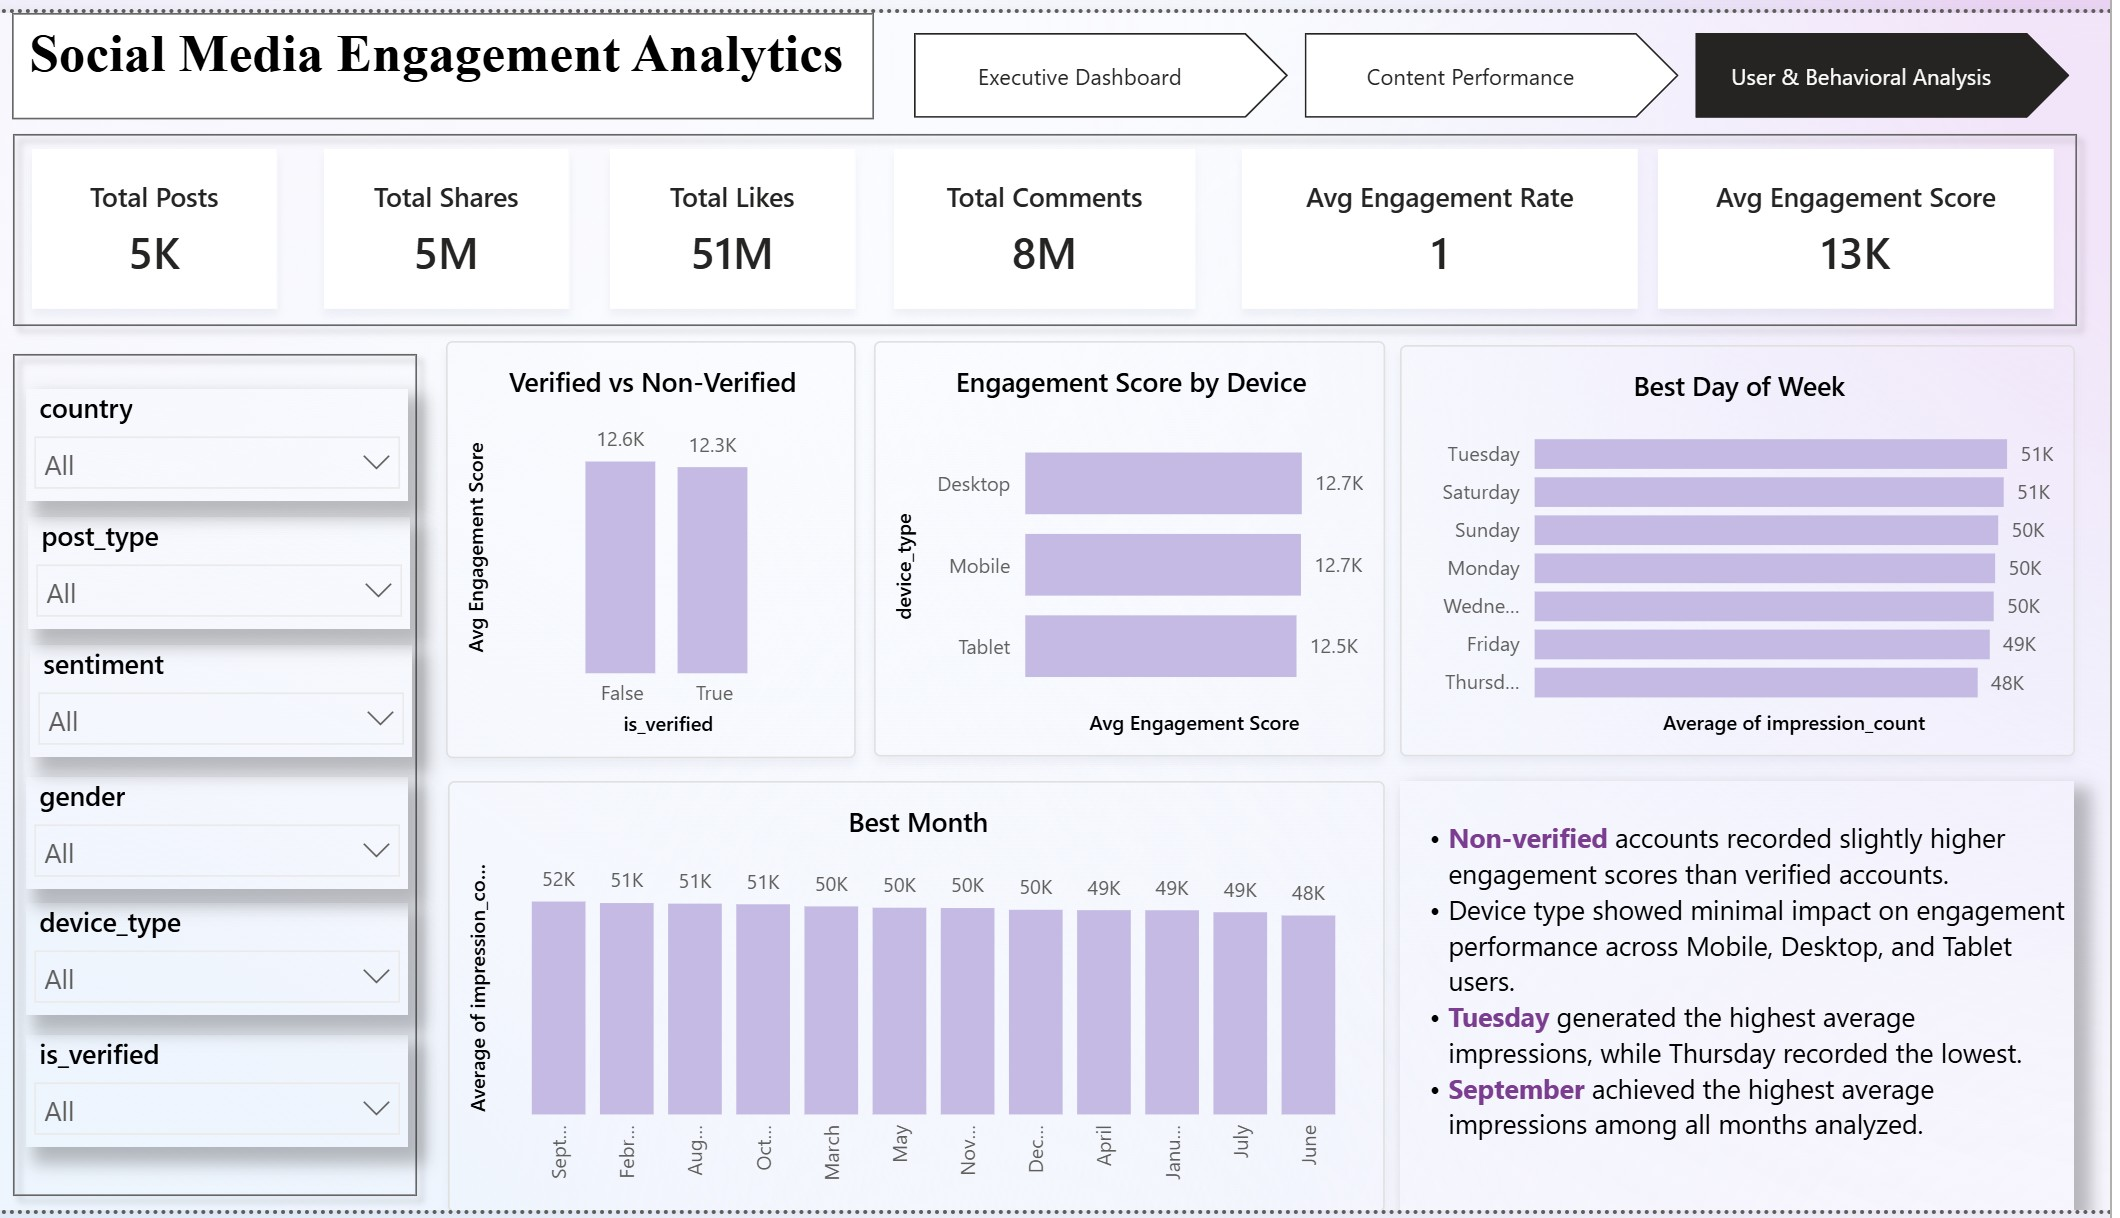

Layout of this report page (visuals, bound fields, positions):
{"tool":"powerbi","page":{"name":"User & Behavioral Analysis","canvas":[1280,720],"ordinal":2},"visuals":[{"type":"textbox","box":[18,0,518.5,63.8],"z":0},{"type":"shape","box":[9.6,63.8,1259.5,133.5],"z":1000},{"type":"cardVisual","fields":{"Data":["DAX_Measures.Total Posts"]},"box":[30.1,81.8,148,96.2],"z":2000},{"type":"cardVisual","fields":{"Data":["DAX_Measures.Avg Engagement Rate"]},"box":[757.9,81.8,238.2,96.2],"z":3000},{"type":"cardVisual","fields":{"Data":["DAX_Measures.Total Shares"]},"box":[205.7,81.8,148,96.2],"z":4000},{"type":"cardVisual","fields":{"Data":["DAX_Measures.Total Likes"]},"box":[377.7,81.8,148,96.2],"z":5000},{"type":"cardVisual","fields":{"Data":["DAX_Measures.Total Comments"]},"box":[548.6,81.8,181.7,96.2],"z":6000},{"type":"cardVisual","fields":{"Data":["DAX_Measures.Avg Engagement Score"]},"box":[1008.1,81.8,238.2,96.2],"z":7000},{"type":"columnChart","title":"Best Month","fields":{"Category":["dataset.month"],"Y":["Avg(dataset.impression_count)"]},"box":[280.3,462,638.8,258.6],"z":10000},{"type":"clusteredColumnChart","title":"Verified vs Non-Verified","fields":{"Category":["dataset.is_verified"],"Y":["DAX_Measures.Avg Engagement Score"]},"box":[279.1,197.3,436.7,251.4],"z":12001},{"type":"barChart","title":"Engagement Score by Device","fields":{"Category":["dataset.device_type"],"Y":["DAX_Measures.Avg Engagement Score"]},"box":[730.2,198.5,541.4,250.2],"z":12002},{"type":"barChart","title":"Best Day of Week","fields":{"Category":["dataset.day_of_week"],"Y":["Avg(dataset.impression_count)"]},"box":[927.5,462,344.1,258.6],"z":12003},{"type":"pageNavigator","box":[560.6,12,697.7,51.7],"z":12004},{"type":"shape","box":[9.6,196.1,261.1,524.5],"z":12011},{"type":"slicer","fields":{"Values":["dataset.country"]},"box":[25.9,226.2,229.8,67.4],"z":12012},{"type":"slicer","fields":{"Values":["dataset.post_type"]},"box":[27.1,303.2,229.8,67.4],"z":12013},{"type":"slicer","fields":{"Values":["dataset.sentiment"]},"box":[28.3,380.2,229.8,67.4],"z":12014},{"type":"slicer","fields":{"Values":["dataset.gender"]},"box":[25.9,459.5,229.8,67.4],"z":12015},{"type":"slicer","fields":{"Values":["dataset.device_type"]},"box":[25.9,535.3,229.8,67.4],"z":12016},{"type":"slicer","fields":{"Values":["dataset.is_verified"]},"box":[25.9,614.7,229.8,67.4],"z":12017}]}

Visuals, with their boxes in screenshot pixels (x1, y1, x2, y2), scaled from the page's 1280x720 canvas onto the 2120x1218 screenshot:
textbox: x1=30, y1=0, x2=889, y2=108
shape: x1=16, y1=108, x2=2102, y2=334
cardVisual - DAX_Measures.Total Posts: x1=50, y1=138, x2=295, y2=301
cardVisual - DAX_Measures.Avg Engagement Rate: x1=1255, y1=138, x2=1650, y2=301
cardVisual - DAX_Measures.Total Shares: x1=341, y1=138, x2=586, y2=301
cardVisual - DAX_Measures.Total Likes: x1=626, y1=138, x2=871, y2=301
cardVisual - DAX_Measures.Total Comments: x1=909, y1=138, x2=1210, y2=301
cardVisual - DAX_Measures.Avg Engagement Score: x1=1670, y1=138, x2=2064, y2=301
"Best Month" columnChart: x1=464, y1=782, x2=1522, y2=1217
"Verified vs Non-Verified" clusteredColumnChart: x1=462, y1=334, x2=1186, y2=759
"Engagement Score by Device" barChart: x1=1209, y1=336, x2=2106, y2=759
"Best Day of Week" barChart: x1=1536, y1=782, x2=2106, y2=1217
pageNavigator: x1=928, y1=20, x2=2084, y2=108
shape: x1=16, y1=332, x2=448, y2=1217
slicer - dataset.country: x1=43, y1=383, x2=424, y2=497
slicer - dataset.post_type: x1=45, y1=513, x2=425, y2=627
slicer - dataset.sentiment: x1=47, y1=643, x2=427, y2=757
slicer - dataset.gender: x1=43, y1=777, x2=424, y2=891
slicer - dataset.device_type: x1=43, y1=906, x2=424, y2=1020
slicer - dataset.is_verified: x1=43, y1=1040, x2=424, y2=1154
